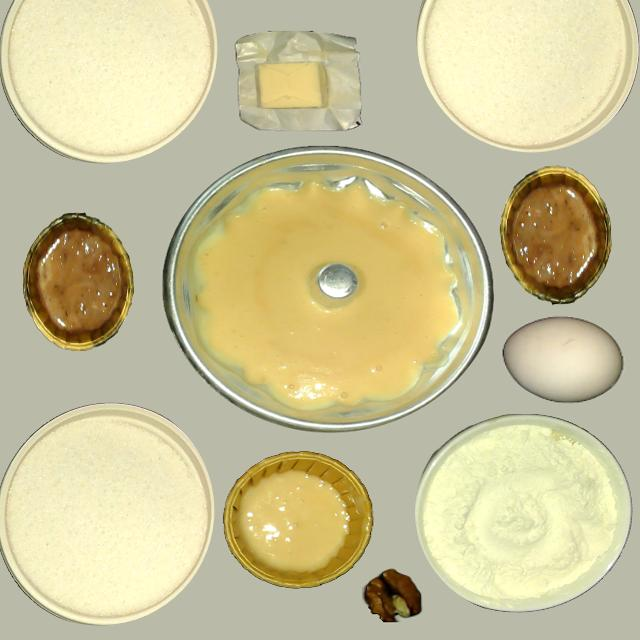Flour: (422, 425, 616, 604)
Sugar: (6, 414, 202, 621), (7, 2, 206, 157), (426, 2, 625, 146)
